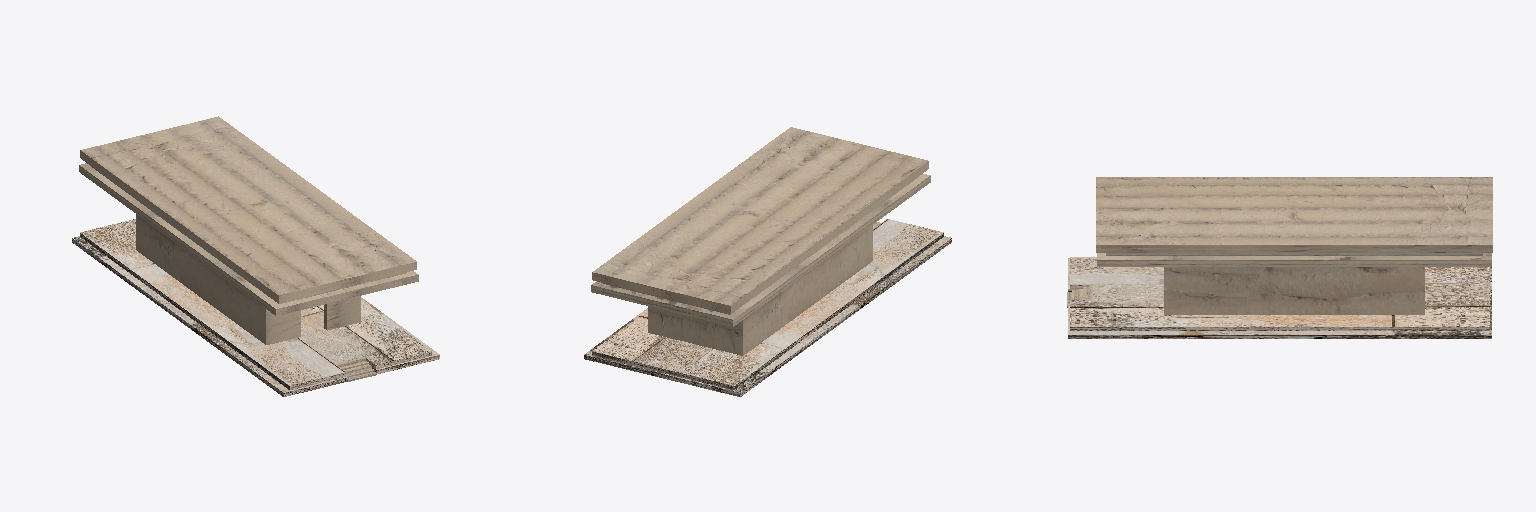
3 renders of one model, left to right at view 1: azimuth 30°, elevation 25°; view 2: azimuth 150°, elevation 25°; view 3: azimuth 270°, elevation 25°, orthographic.
Visible parts, largest first — view 1: MainHouseF_Cube, Floor.001_Cube.011, Main_House_Cube.007, Floor_Cube.004, Stairs_Cube.006; view 2: MainHouseF_Cube, Floor.001_Cube.011, Main_House_Cube.007, Floor_Cube.004; view 3: MainHouseF_Cube, Floor.001_Cube.011, Main_House_Cube.007, Floor_Cube.004.
Boxes of the visible parts, <box> form: MainHouseF_Cube: <box>79,116,418,315</box>; Floor.001_Cube.011: <box>80,219,431,389</box>; Main_House_Cube.007: <box>136,214,360,344</box>; Floor_Cube.004: <box>72,236,439,396</box>; Stairs_Cube.006: <box>336,357,376,381</box>; MainHouseF_Cube: <box>591,127,930,326</box>; Floor.001_Cube.011: <box>592,219,943,389</box>; Main_House_Cube.007: <box>648,225,872,355</box>; Floor_Cube.004: <box>584,236,951,396</box>; MainHouseF_Cube: <box>1096,177,1492,266</box>; Floor.001_Cube.011: <box>1070,257,1489,330</box>; Main_House_Cube.007: <box>1164,267,1424,314</box>; Floor_Cube.004: <box>1068,258,1491,338</box>.
Bounding box in the file's own units: 10.04 × 5.49 × 23.66.
5 materials, 2 textured.